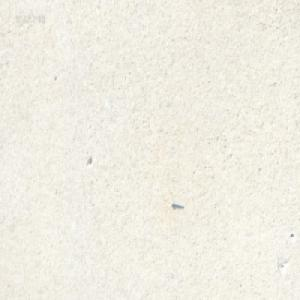Nail: (171, 199, 183, 208)
